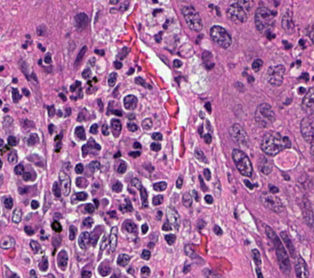nucleus: (261, 131, 290, 155), (181, 5, 202, 31), (232, 149, 252, 176), (210, 25, 231, 48), (260, 192, 283, 212), (255, 7, 273, 32), (255, 103, 274, 126), (229, 124, 248, 146), (227, 2, 246, 22), (267, 65, 284, 86), (166, 206, 179, 229), (59, 171, 70, 195), (258, 157, 271, 174), (75, 46, 86, 66), (75, 12, 88, 28), (123, 95, 137, 109), (78, 232, 89, 249), (111, 119, 121, 137), (90, 227, 100, 245), (122, 220, 136, 232), (135, 77, 150, 88), (109, 227, 116, 250), (1, 236, 14, 248), (87, 138, 100, 149), (140, 187, 147, 206), (27, 133, 38, 145), (75, 126, 85, 139), (153, 181, 166, 191), (182, 192, 191, 206), (12, 208, 21, 222), (195, 149, 205, 161), (8, 150, 17, 163), (22, 171, 35, 180), (237, 1, 251, 9), (12, 88, 20, 102), (52, 182, 60, 196), (73, 192, 87, 200), (252, 59, 262, 70), (88, 161, 99, 171), (14, 164, 24, 175), (76, 177, 87, 187), (112, 181, 122, 192), (51, 221, 61, 232), (142, 118, 151, 130), (69, 225, 76, 240), (108, 72, 116, 85), (70, 81, 80, 91), (131, 178, 141, 188), (153, 195, 163, 205), (84, 203, 94, 213), (82, 217, 92, 227), (165, 234, 175, 244), (118, 47, 127, 58), (117, 162, 126, 173), (3, 197, 12, 208), (199, 176, 206, 190), (127, 122, 137, 131), (81, 144, 88, 156), (162, 221, 171, 230), (24, 226, 33, 235), (82, 68, 90, 78), (151, 132, 161, 140), (150, 143, 160, 151), (75, 163, 83, 173), (155, 31, 162, 42), (203, 169, 210, 180), (120, 1, 128, 10), (203, 134, 211, 143), (8, 136, 16, 145), (269, 185, 278, 193), (213, 225, 221, 234), (48, 105, 54, 116), (102, 124, 108, 135), (176, 177, 182, 188), (101, 237, 106, 250), (173, 59, 181, 67), (204, 195, 212, 203), (90, 124, 97, 133), (31, 200, 38, 209), (192, 190, 198, 200), (22, 88, 29, 96), (245, 180, 252, 188), (95, 49, 104, 55), (44, 54, 50, 63), (141, 224, 147, 233), (129, 151, 139, 156), (114, 61, 121, 68), (1, 146, 8, 153), (205, 103, 210, 112), (133, 142, 140, 148), (98, 99, 102, 109), (38, 44, 44, 50), (59, 93, 65, 99), (49, 124, 53, 133), (114, 110, 121, 115), (128, 68, 133, 74), (114, 152, 119, 157), (110, 0, 118, 3), (199, 126, 202, 134), (0, 139, 3, 146), (148, 243, 153, 247), (158, 211, 160, 218), (3, 108, 7, 111), (58, 111, 61, 115)
